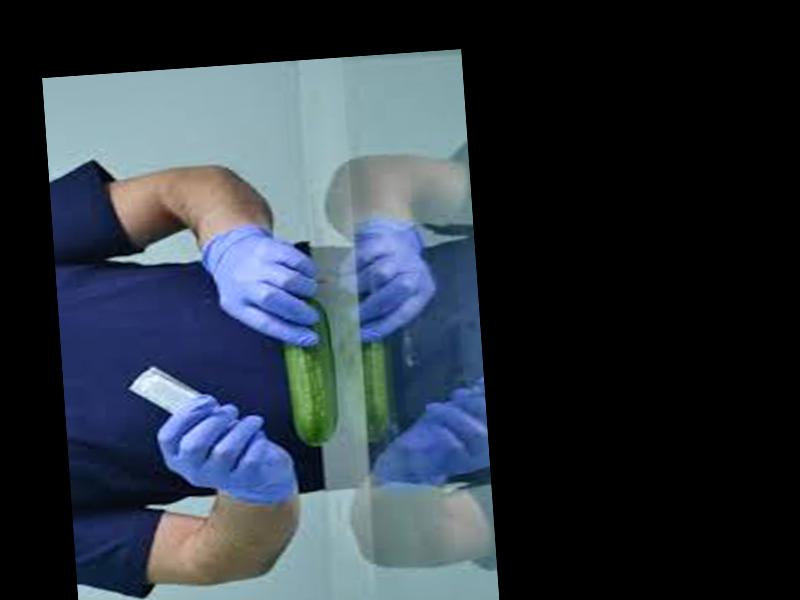Cucumber: (281, 298, 341, 448)
